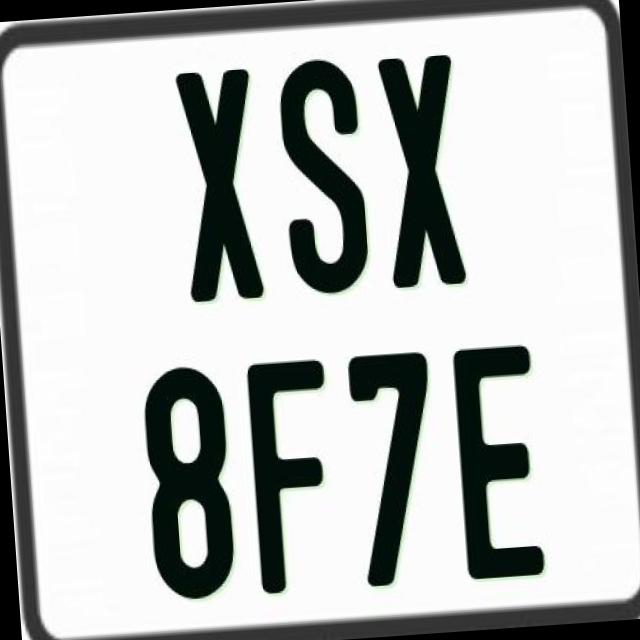7: (342, 346, 446, 591)
8: (140, 360, 238, 602)
E: (448, 342, 542, 582)
F: (245, 356, 344, 595)
S: (274, 56, 373, 300)
X: (374, 52, 468, 286), (172, 64, 260, 302)
